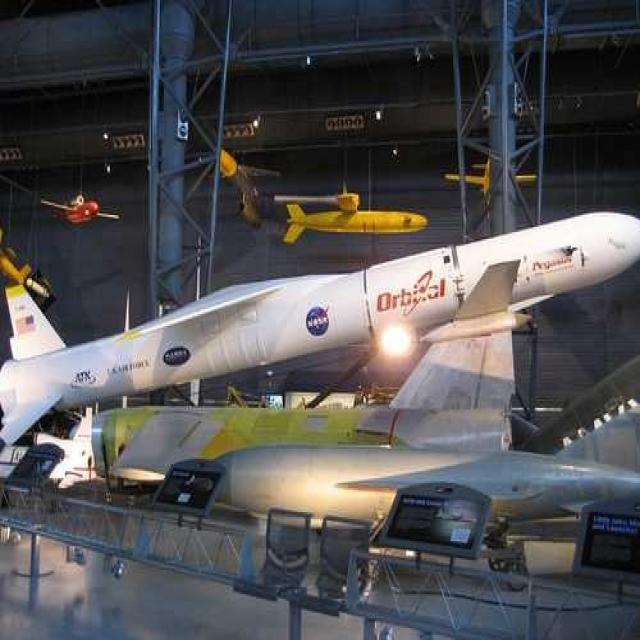missile: (0, 197, 640, 445), (61, 266, 534, 486), (202, 406, 640, 527)
